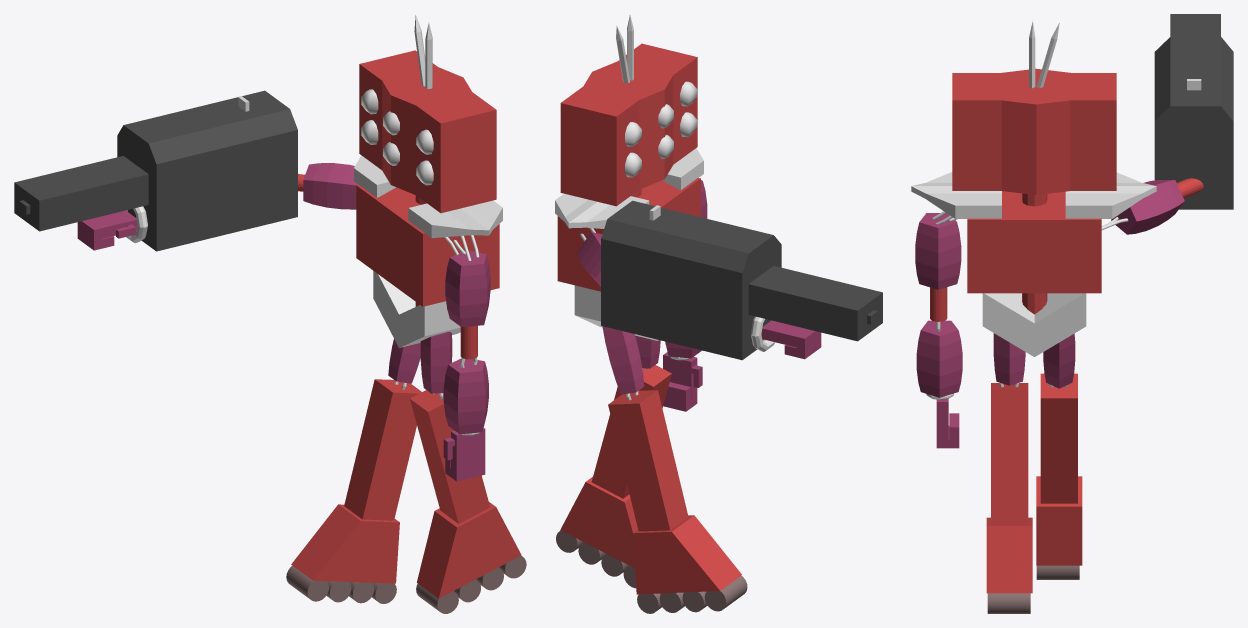
File: ReginaldLP.fbx
The picture shows the model from 3 angles, left to right: view 1: azimuth 30°, elevation 25°; view 2: azimuth 150°, elevation 25°; view 3: azimuth 270°, elevation 25°; orthographic projection.
Visible parts, largest first — view 1: polySurface289; view 2: polySurface289; view 3: polySurface289.
Part boxes in pixels (left/top/right/bottom): polySurface289: left=14, top=15, right=526, bottom=613; polySurface289: left=555, top=14, right=882, bottom=613; polySurface289: left=911, top=14, right=1233, bottom=613.
Size of the model in its own units: 3.48 by 4.76 by 2.4.
